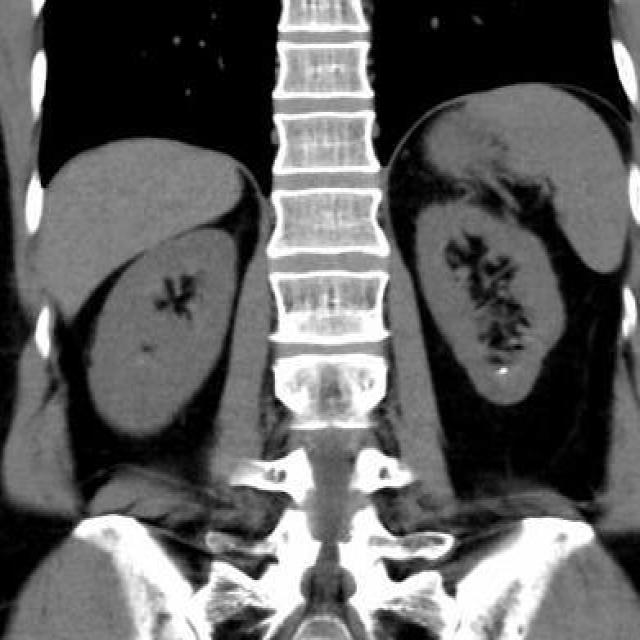Tas_Var: (497, 365, 508, 375)
